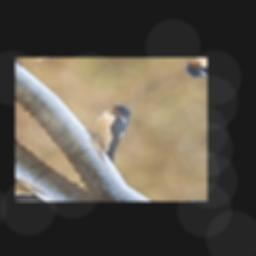Swallow: (73, 99, 159, 164)
